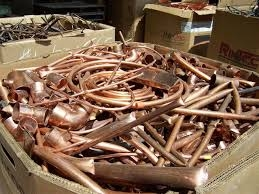metal: (58, 93, 185, 152), (77, 152, 210, 193), (45, 97, 102, 133), (175, 103, 257, 125), (165, 48, 215, 84), (10, 100, 53, 127), (45, 126, 77, 155), (1, 66, 32, 93), (208, 69, 244, 92), (13, 115, 41, 140), (28, 78, 53, 104), (118, 46, 145, 63)
